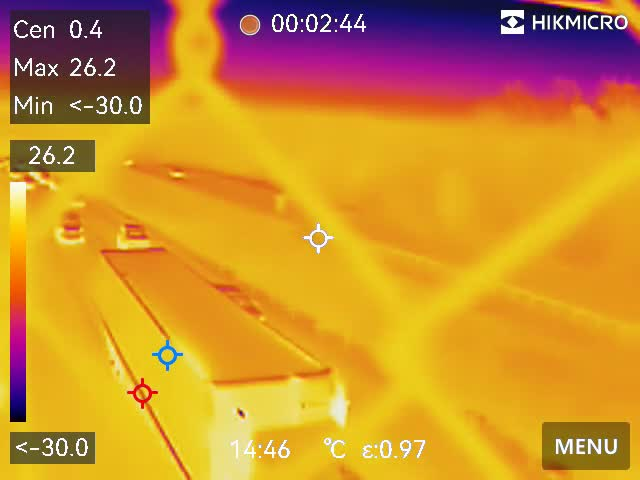heavyTruck: (93, 239, 378, 480)
